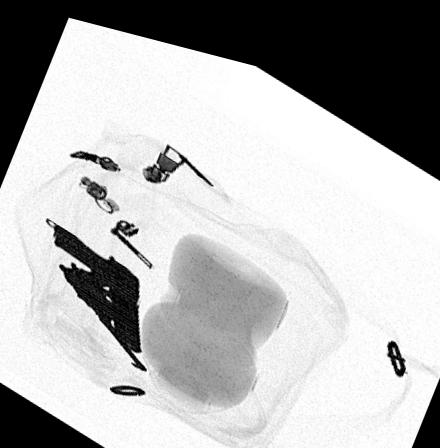Gun: (52, 219, 143, 345), (59, 255, 149, 363)
